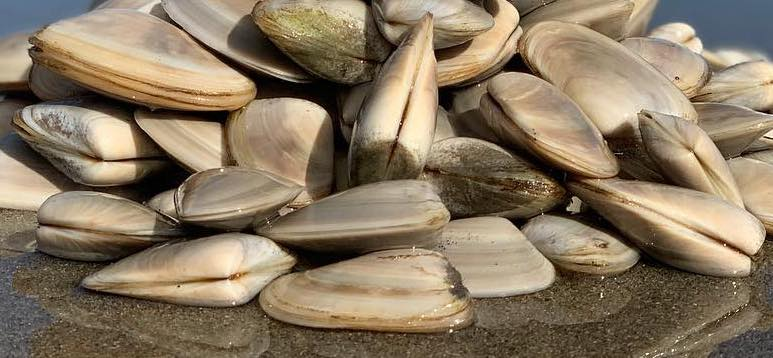tuatua: (25, 8, 257, 113), (519, 16, 701, 141), (572, 173, 770, 281), (479, 71, 626, 184), (257, 252, 476, 327), (79, 232, 291, 307), (8, 93, 174, 186), (357, 9, 440, 190), (257, 178, 449, 244), (229, 94, 338, 207), (254, 1, 390, 89), (637, 105, 752, 206), (425, 135, 571, 213), (38, 187, 176, 262), (444, 210, 555, 299), (522, 210, 641, 277), (175, 165, 294, 227)
